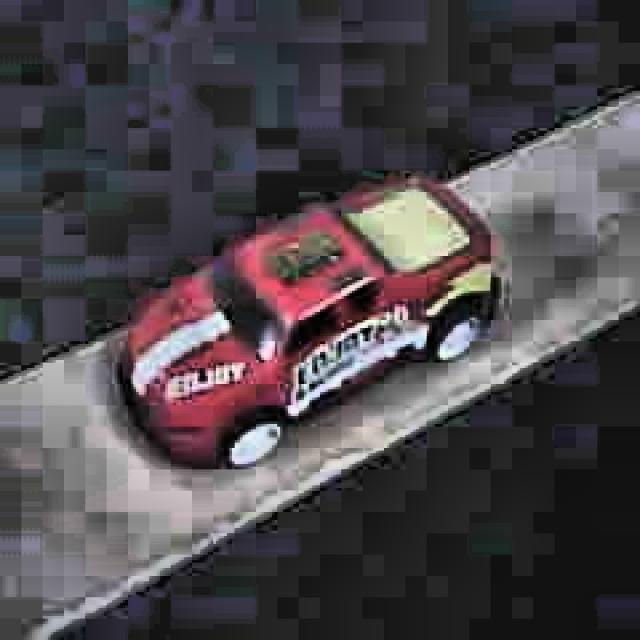car: (113, 170, 503, 473)
